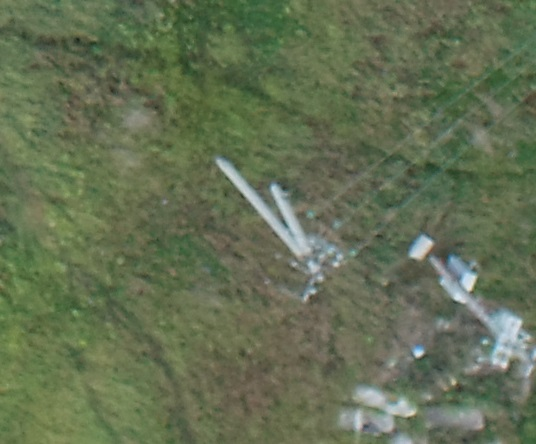opora: (213, 153, 359, 302)
